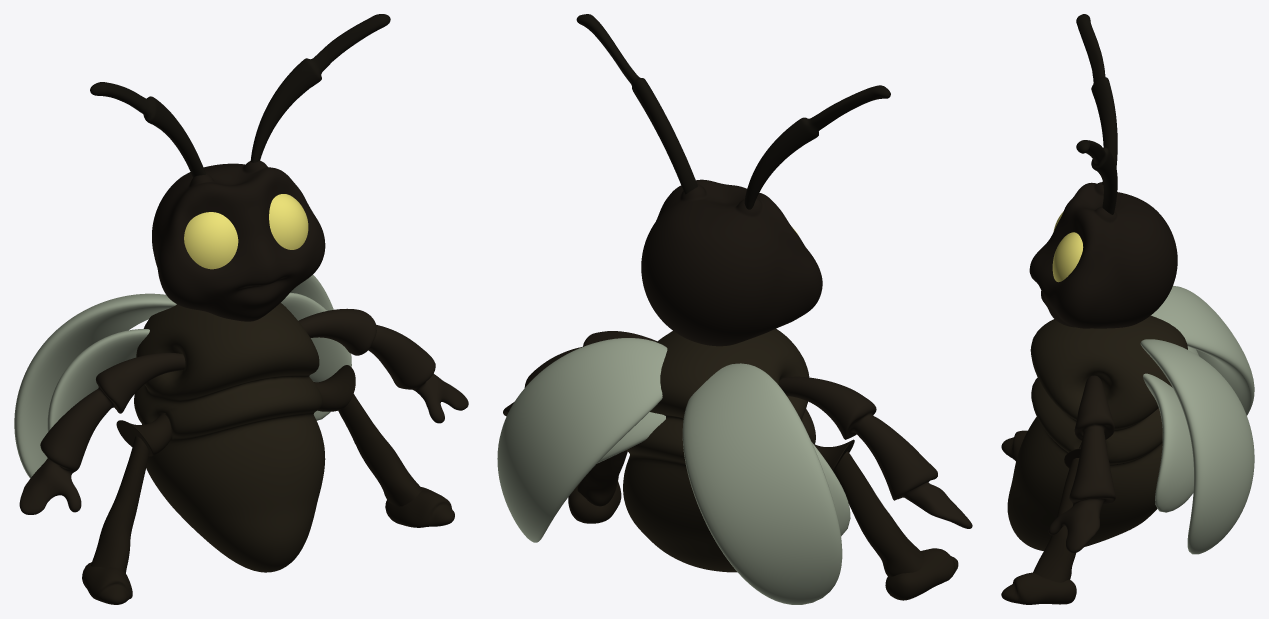
The model's file is firefly.obj.
3 renders of one model, left to right at view 1: azimuth 30°, elevation 25°; view 2: azimuth 150°, elevation 25°; view 3: azimuth 270°, elevation 25°, orthographic. The views are drawn at different scales.
Visible parts, largest first — view 1: Abdomen, Head, Wings, Hand, Leg, Antana, Eye; view 2: Wings, Head, Abdomen, Leg, Hand, Antana; view 3: Abdomen, Wings, Head, Hand, Leg, Antana, Eye.
Boxes of the visible parts, x1=… form: Abdomen: x1=134, y1=303, x2=325, y2=572; Head: x1=152, y1=160, x2=325, y2=321; Wings: x1=14, y1=275, x2=351, y2=478; Hand: x1=19, y1=308, x2=468, y2=514; Leg: x1=82, y1=365, x2=454, y2=604; Antana: x1=90, y1=14, x2=390, y2=177; Eye: x1=184, y1=194, x2=308, y2=269; Wings: x1=497, y1=338, x2=850, y2=604; Head: x1=641, y1=179, x2=822, y2=346; Abdomen: x1=623, y1=329, x2=815, y2=572; Leg: x1=568, y1=439, x2=958, y2=600; Hand: x1=503, y1=331, x2=972, y2=528; Antana: x1=576, y1=14, x2=890, y2=209; Abdomen: x1=1007, y1=315, x2=1187, y2=550; Wings: x1=1140, y1=286, x2=1254, y2=554; Head: x1=1029, y1=182, x2=1177, y2=328; Hand: x1=1048, y1=375, x2=1115, y2=553; Leg: x1=1001, y1=430, x2=1109, y2=604; Antana: x1=1076, y1=14, x2=1117, y2=214; Eye: x1=1052, y1=211, x2=1083, y2=282.
Size of the model in its own units: 0.0362 by 0.0393 by 0.0193.
